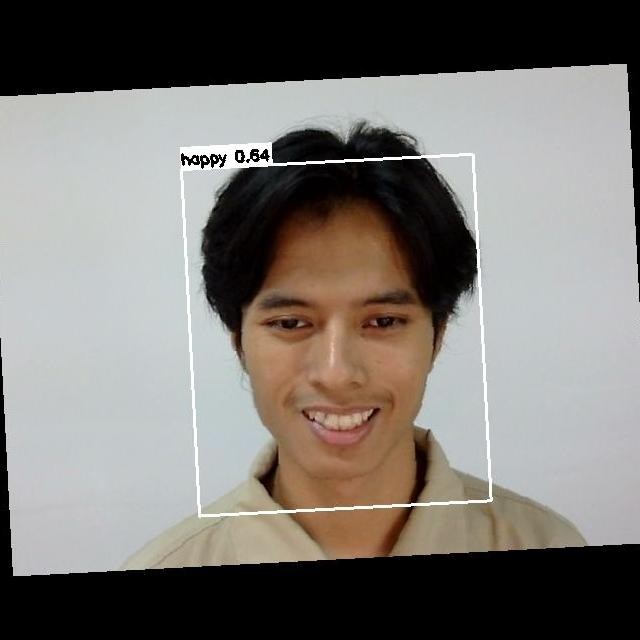Happy: (242, 269, 434, 454)
